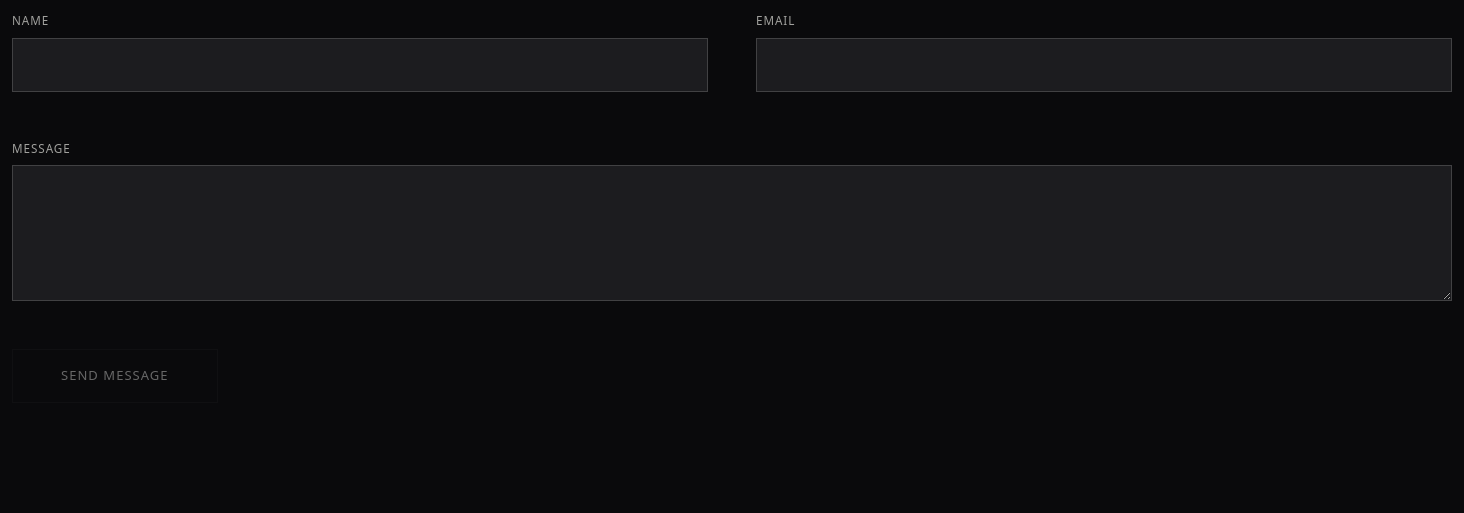
Test: ContactForm › submits to FormSubmit and shows a success state
Type "Ada Lovelace" into the field with test id "contact-name-input". click: (360, 65)
box: [12, 38, 708, 92]
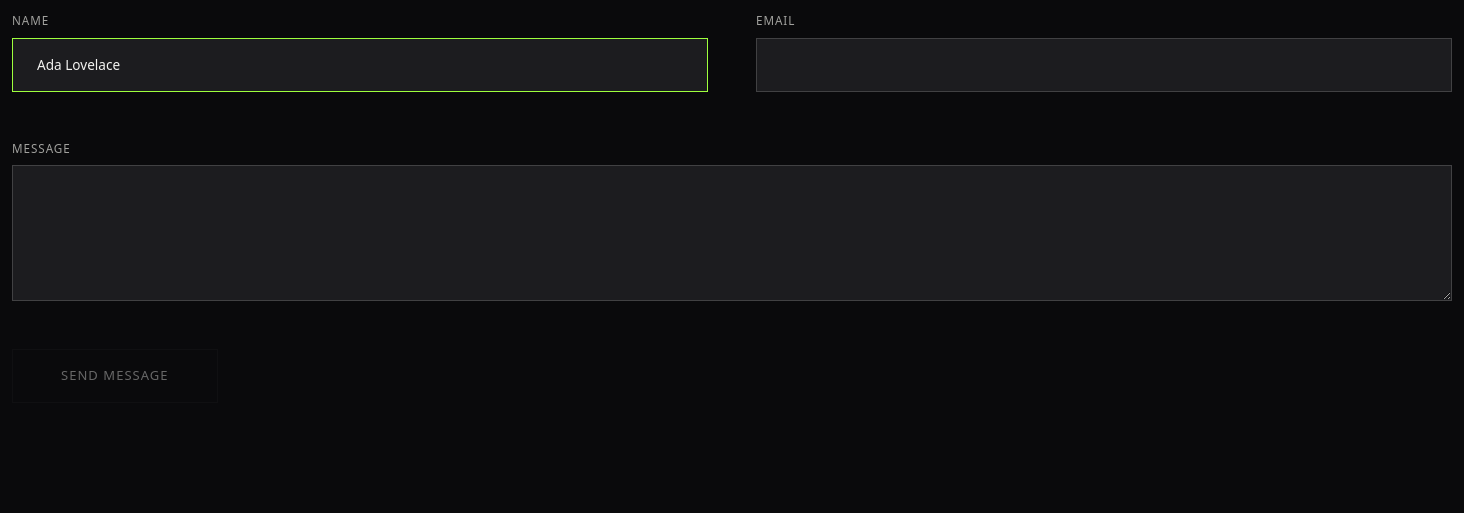
Type "ada@example.com" into the field with test id "contact-email-input". click: (1104, 65)
box: [756, 38, 1452, 92]
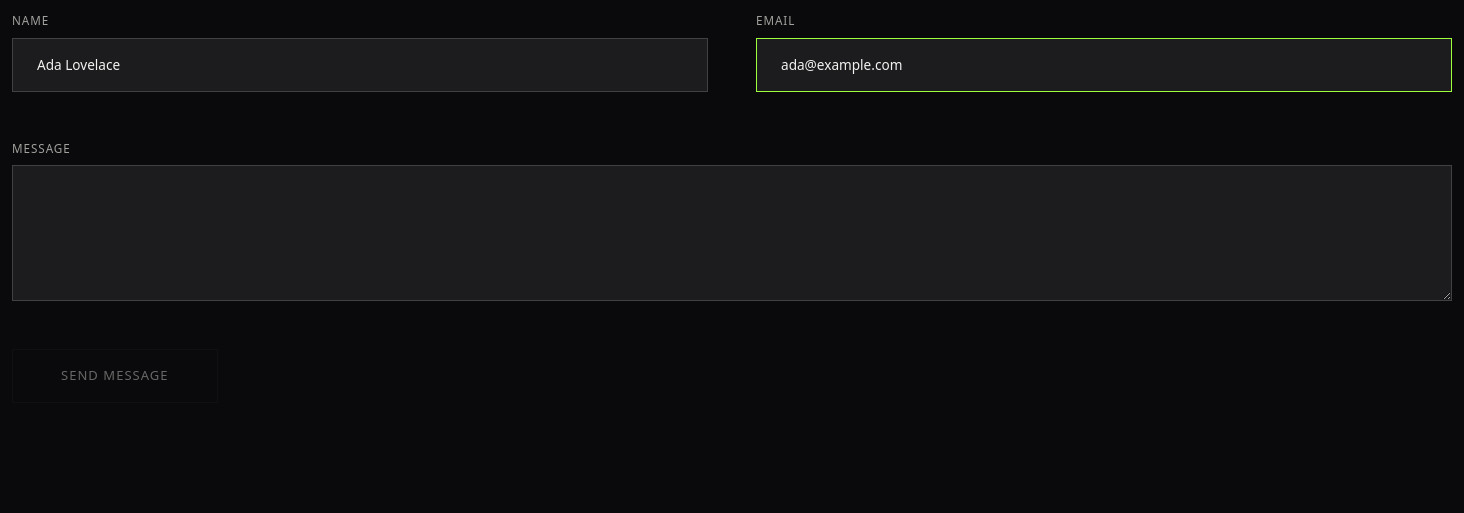
Type "Hello there" into the text box with test id "contact-message-input". click: (732, 234)
box: [12, 166, 1452, 302]
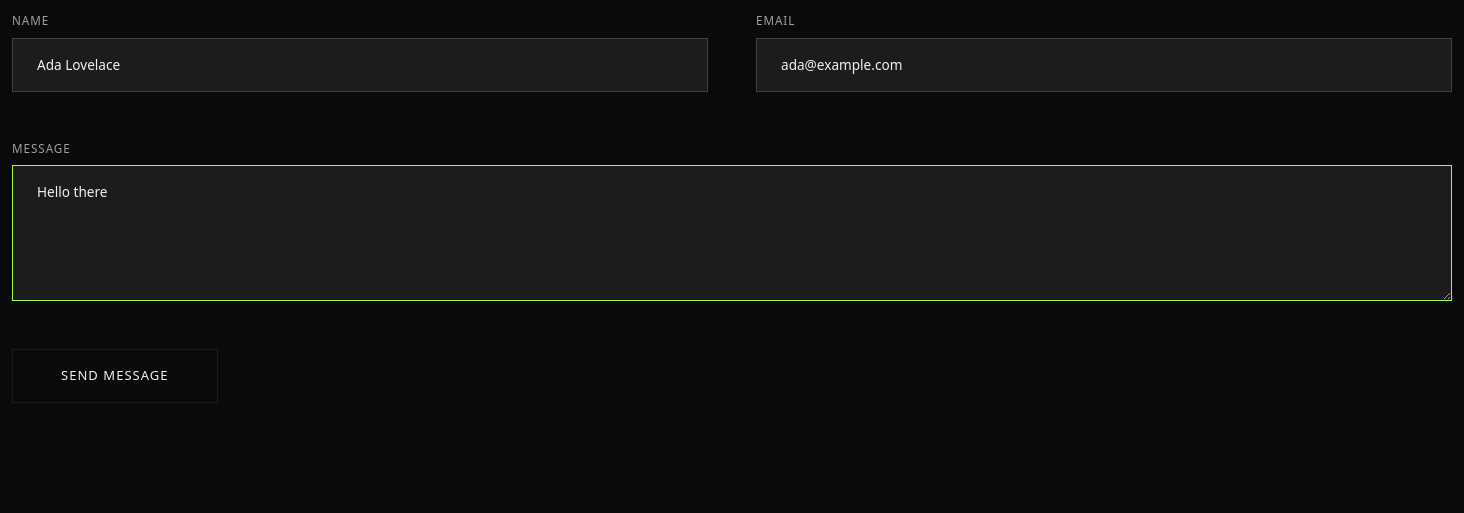
Click the button with test id "contact-submit". click: (115, 376)
box: [12, 349, 218, 403]
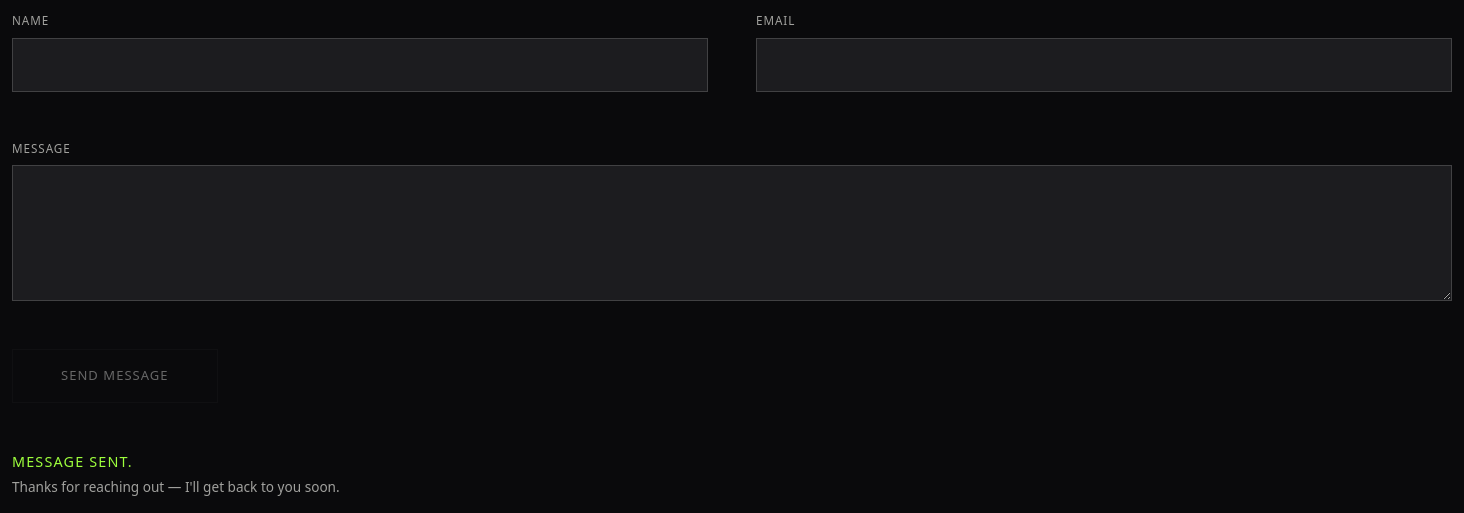
Expected: the message "Message sent. Thanks for reaching out — I'll get back to you soon." is shown, [12, 452, 340, 496]
